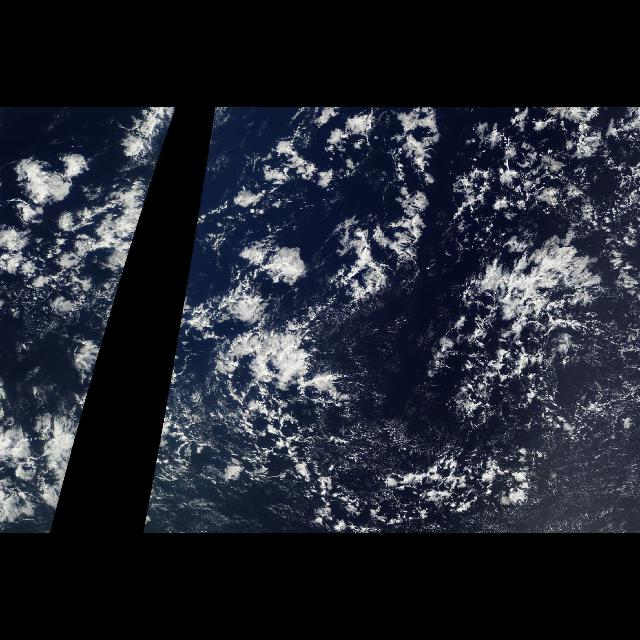Flower: (166, 110, 360, 404), (0, 110, 176, 404)
Gravel: (155, 107, 640, 533)
